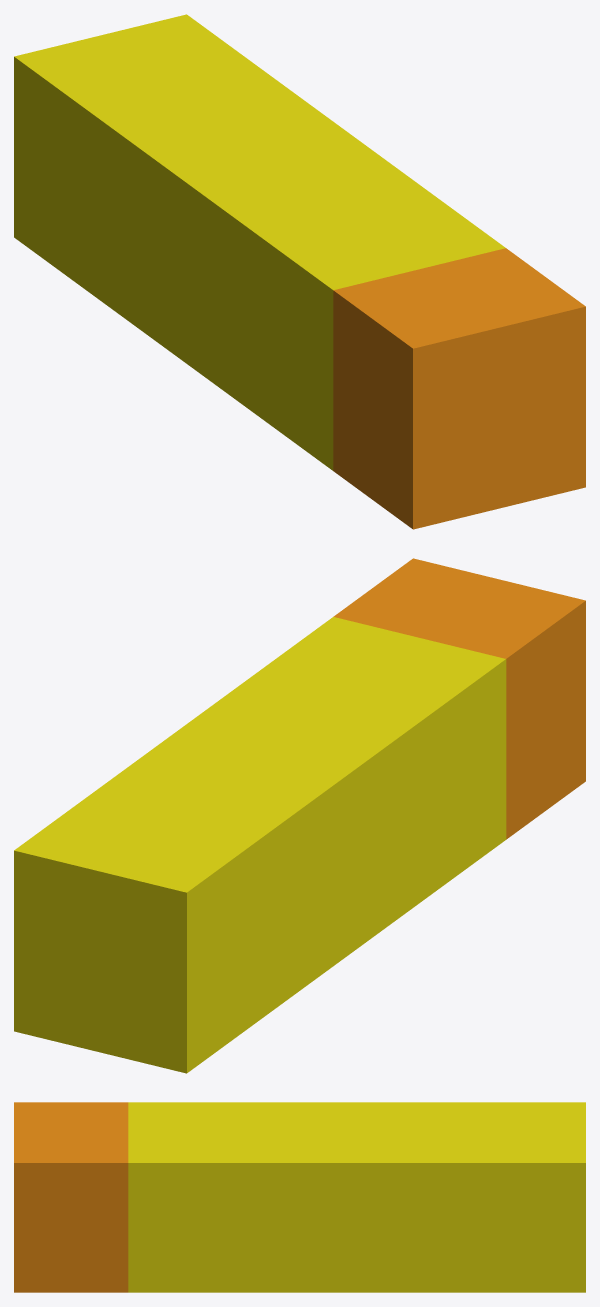
The model's file is BulletCasing.gltf.
The picture shows the model from 3 angles, top to bottom: view 1: azimuth 30°, elevation 25°; view 2: azimuth 150°, elevation 25°; view 3: azimuth 270°, elevation 25°; orthographic projection. The views are drawn at different scales.
Parts seen in each view (by area): view 1: Cube.008; view 2: Cube.008; view 3: Cube.008.
Part boxes in pixels (bbox=[...]): Cube.008: bbox=[14, 14, 585, 529]; Cube.008: bbox=[14, 558, 585, 1073]; Cube.008: bbox=[14, 1102, 585, 1292].
Size of the model in its own units: 1 by 1 by 4.
